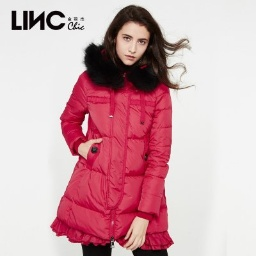face: (104, 3, 188, 90)
